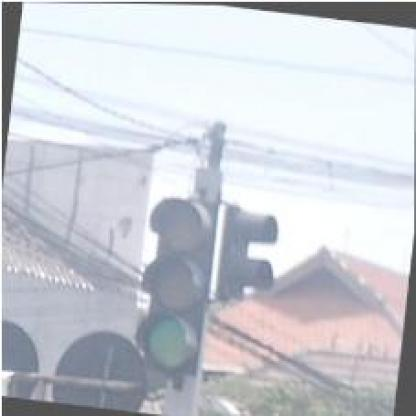green: (131, 192, 221, 376)
